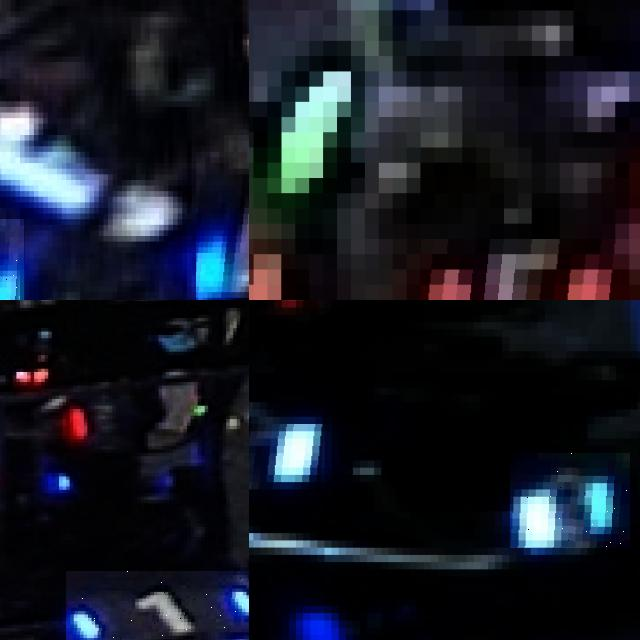B1: (66, 570, 249, 640)
B4: (196, 180, 249, 300)
Bs: (510, 453, 630, 548), (249, 402, 331, 504)
R5: (420, 238, 629, 300)
